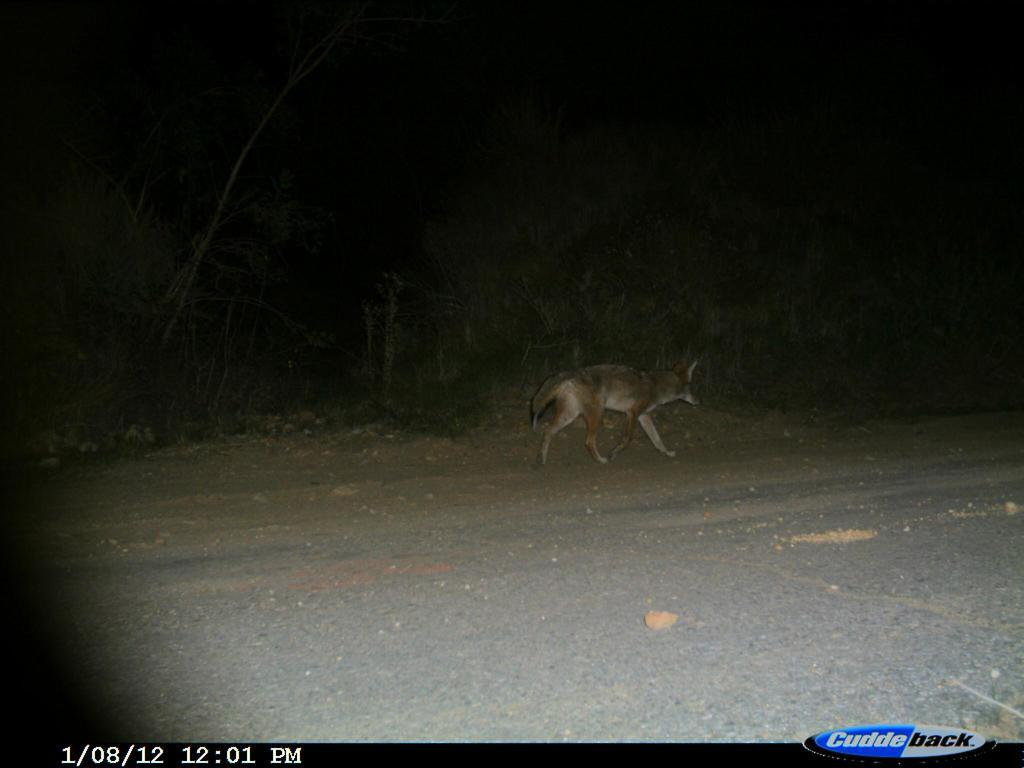coyote: (528, 349, 711, 472)
